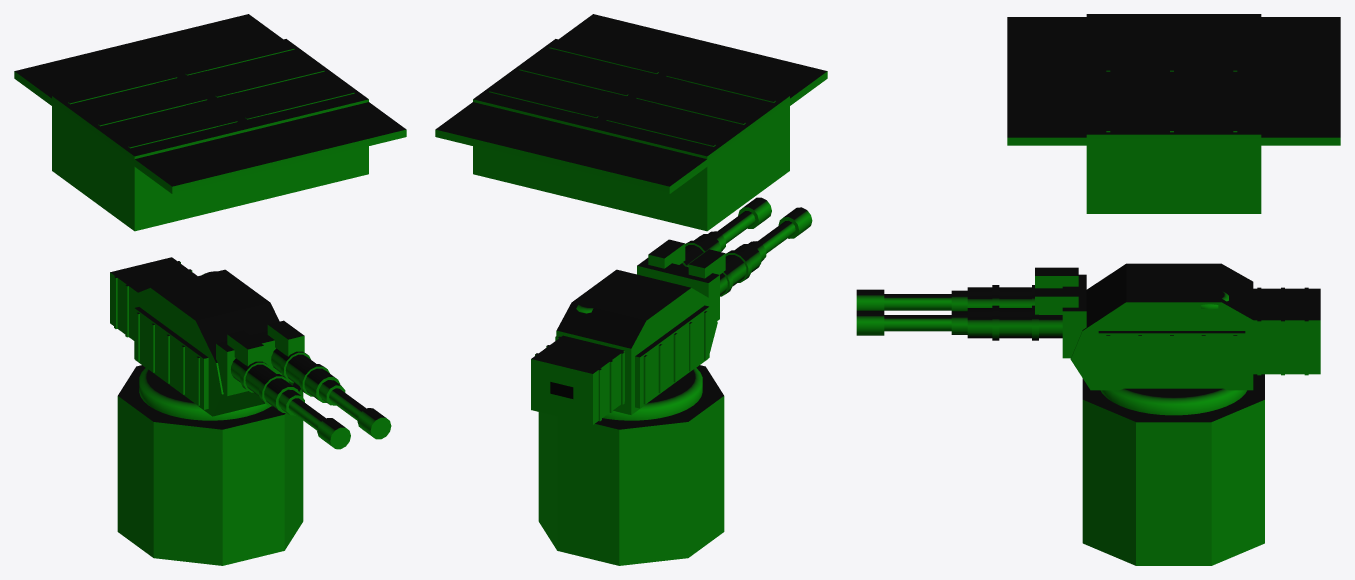
The model's file is autocannonpopup.glb.
3 renders of one model, left to right at view 1: azimuth 30°, elevation 25°; view 2: azimuth 150°, elevation 25°; view 3: azimuth 270°, elevation 25°, orthographic. The views are drawn at different scales.
Parts seen in each view (by area): view 1: lod0_Base, lod0_Pop, lod0_Turret, lod0_pop_door_l, lod0_pop_door_r, lod0_Gun; view 2: lod0_Base, lod0_Pop, lod0_Turret, lod0_pop_door_l, lod0_pop_door_r, lod0_Gun; view 3: lod0_Base, lod0_Turret, lod0_Pop, lod0_pop_door_r, lod0_Gun, lod0_pop_door_l, lod1_Turret.
Boxes of the visible parts, x1,y1,x2,y2 form: lod0_Base: [14, 14, 406, 231]; lod0_Pop: [117, 365, 303, 565]; lod0_Turret: [110, 257, 293, 420]; lod0_pop_door_l: [52, 67, 251, 162]; lod0_pop_door_r: [169, 39, 368, 129]; lod0_Gun: [216, 320, 391, 449]; lod0_Base: [435, 14, 827, 231]; lod0_Pop: [538, 365, 724, 565]; lod0_Turret: [531, 269, 717, 424]; lod0_pop_door_l: [590, 67, 789, 162]; lod0_pop_door_r: [473, 39, 672, 129]; lod0_Gun: [637, 197, 812, 320]; lod0_Base: [1007, 17, 1340, 213]; lod0_Turret: [1070, 263, 1320, 415]; lod0_Pop: [1082, 374, 1264, 565]; lod0_pop_door_r: [1086, 74, 1261, 141]; lod0_Gun: [856, 267, 1086, 358]; lod0_pop_door_l: [1086, 14, 1261, 74]; lod1_Turret: [1108, 388, 1239, 413].
Size of the model in its own units: 7.2 by 12.63 by 12.2.
